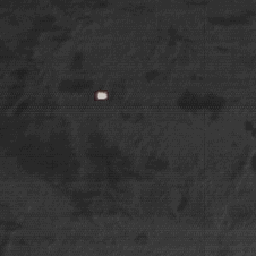Target: (95, 89, 109, 101)
